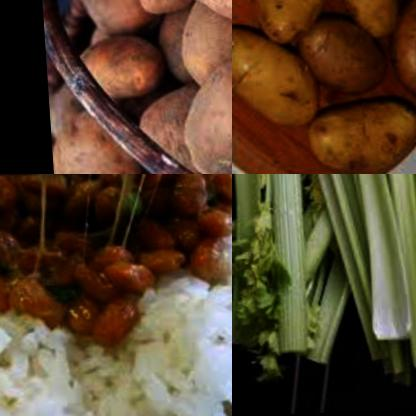beans: (0, 174, 229, 345)
celery: (278, 174, 416, 412), (232, 174, 324, 370)
potato: (232, 18, 319, 129), (295, 97, 416, 174), (57, 29, 158, 114), (169, 39, 232, 174), (292, 7, 388, 95), (122, 71, 198, 174), (172, 0, 232, 91), (238, 0, 347, 42), (44, 113, 119, 174), (71, 0, 150, 41), (385, 0, 416, 98), (341, 0, 406, 40), (123, 0, 199, 22)
